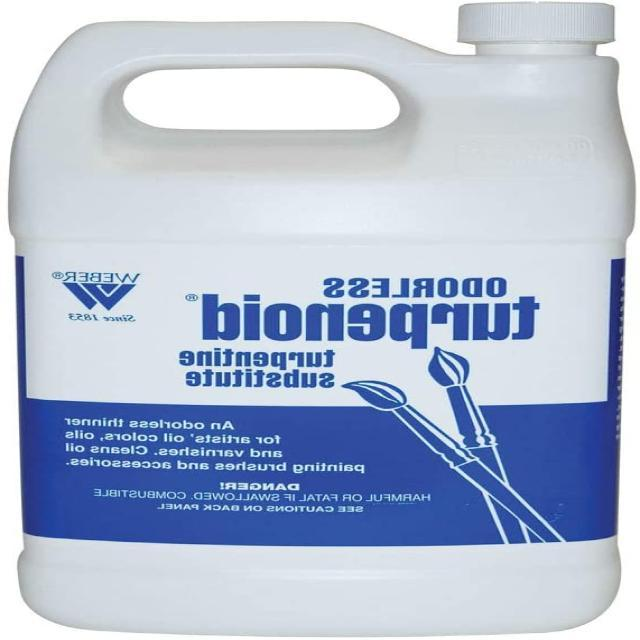B3: (13, 17, 630, 627)
